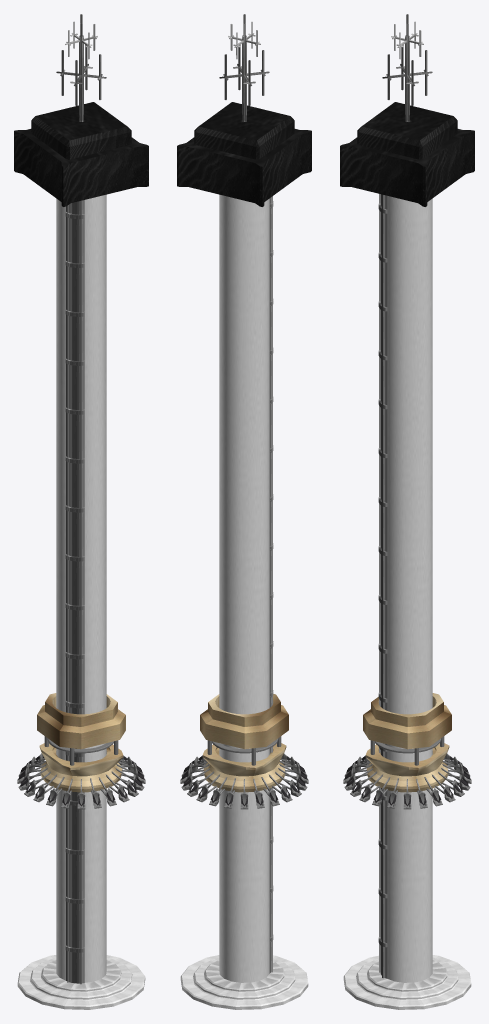
The model's file is 자이로드롭.fbx.
3 renders of one model, left to right at view 1: azimuth 30°, elevation 25°; view 2: azimuth 150°, elevation 25°; view 3: azimuth 330°, elevation 25°, orthographic.
Parts seen in each view (by area): view 1: Cylinder001, Arc002, Box001, Line111, Donut001, Line013, Box002; view 2: Cylinder001, Box001, Line111, Donut001, Arc002, Line013, Box002; view 3: Cylinder001, Box001, Arc002, Line111, Donut001, Line013, Box002.
Part boxes in pixels (x1,y1,x2,y2): Cylinder001: [56, 194, 106, 982]; Arc002: [65, 200, 84, 984]; Box001: [14, 102, 148, 206]; Line111: [17, 955, 145, 1009]; Donut001: [37, 693, 125, 749]; Line013: [39, 743, 123, 792]; Box002: [56, 14, 106, 121]; Cylinder001: [219, 194, 269, 982]; Box001: [177, 102, 311, 206]; Line111: [180, 955, 308, 1009]; Donut001: [200, 694, 288, 749]; Arc002: [269, 196, 273, 973]; Line013: [202, 743, 286, 792]; Box002: [219, 14, 269, 121]; Cylinder001: [387, 196, 432, 982]; Box001: [340, 102, 474, 206]; Arc002: [378, 194, 387, 978]; Line111: [343, 955, 471, 1009]; Donut001: [363, 693, 451, 749]; Line013: [365, 743, 449, 792]; Box002: [382, 14, 432, 121].
Bounding box in the file's own units: 40 × 332 × 40.
